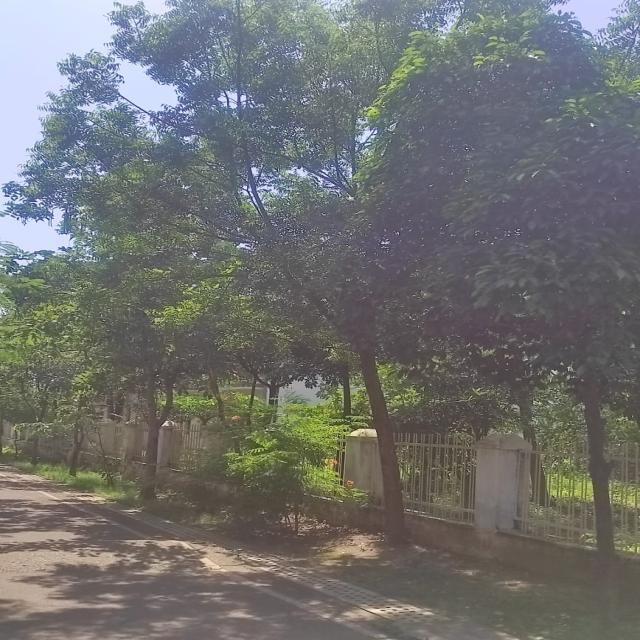Neem Tree: (80, 42, 404, 394)
